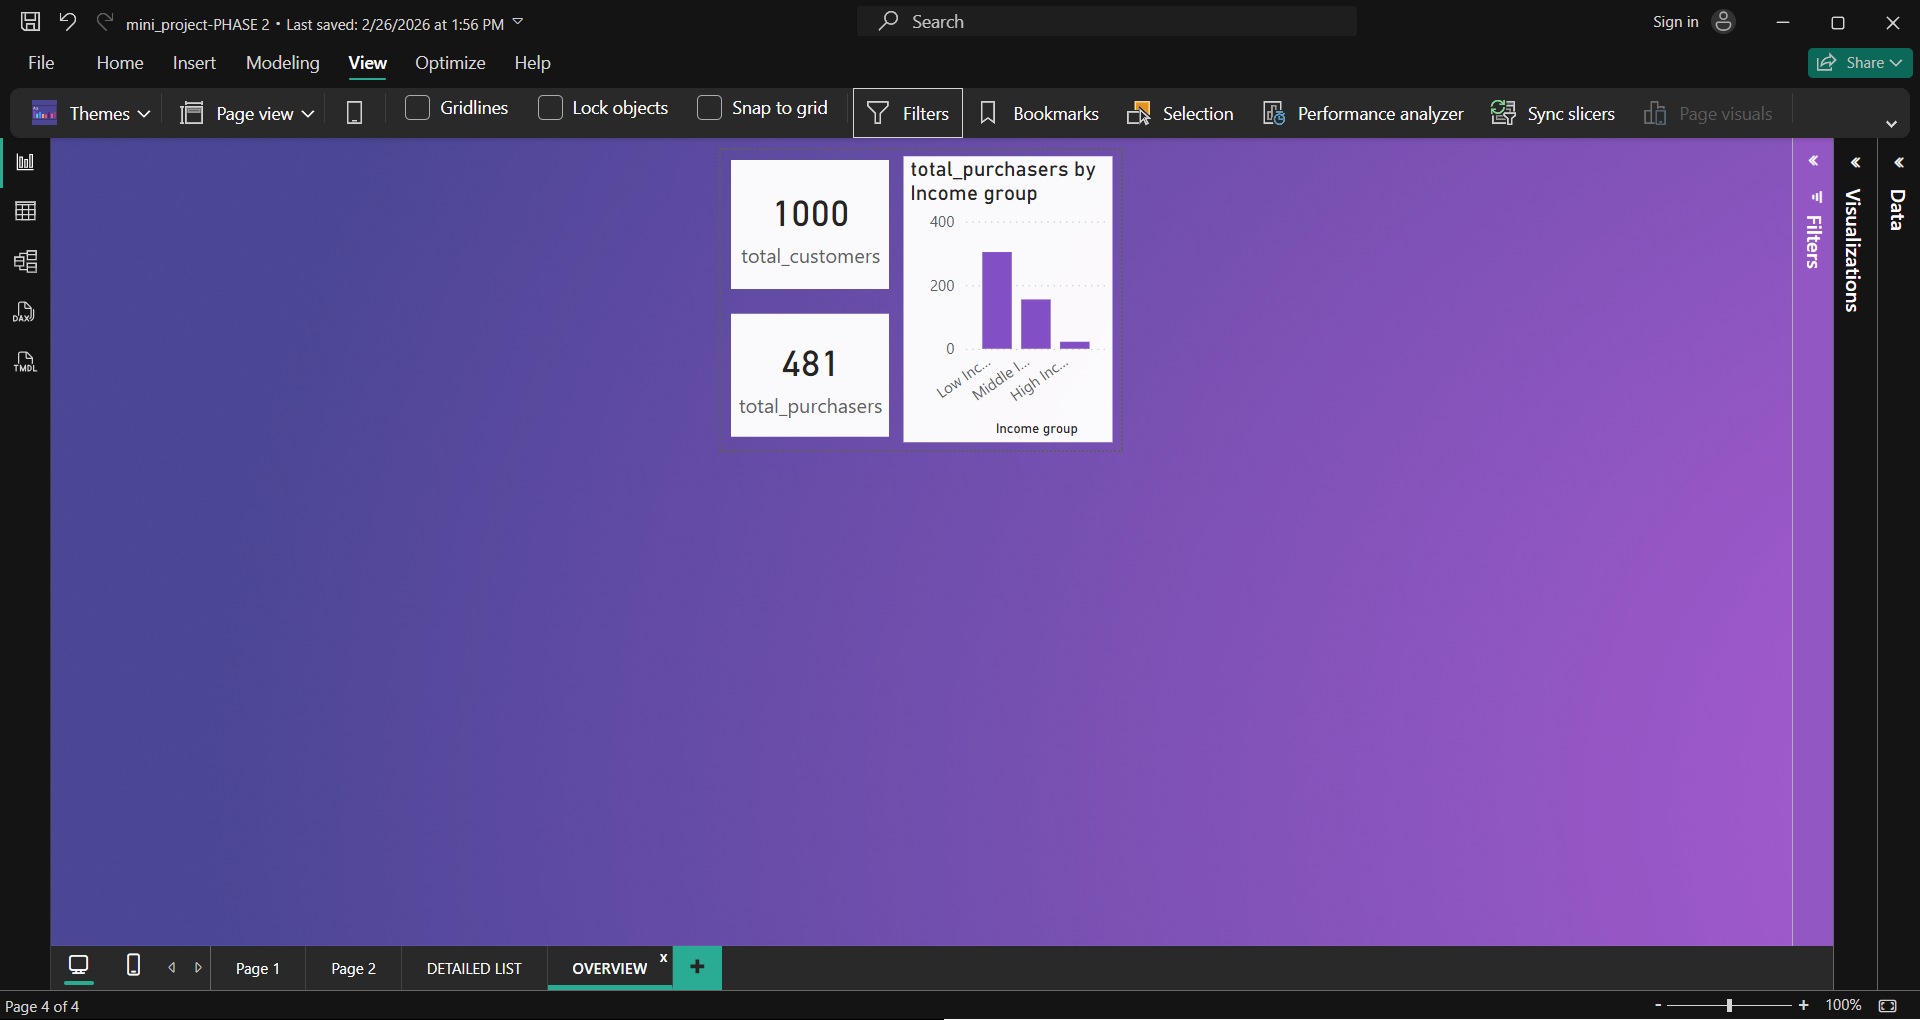

What the dashboard file says about the page in this screenshot:
{"tool":"powerbi","page":{"name":"OVERVIEW","canvas":[320,240],"ordinal":3},"visuals":[{"type":"card","fields":{"Values":["bike_sales.total_customers"]},"box":[8,8,126,103],"z":0},{"type":"card","fields":{"Values":["bike_sales.total_purchasers"]},"box":[8,131,126,98],"z":1000},{"type":"columnChart","fields":{"Category":["bike_sales.Income group"],"Y":["bike_sales.total_purchasers"]},"box":[146,5,167,229],"z":2000}]}

Visuals, with their boxes on the page's 320x240 design canvas (x1, y1, x2, y2). These are canvas units, not pixel positions in the 1920x1020 screenshot, which may show the page scaled, cropped or inside an application window:
card - bike_sales.total_customers: <region>8, 8, 134, 111</region>
card - bike_sales.total_purchasers: <region>8, 131, 134, 229</region>
columnChart - bike_sales.Income group x bike_sales.total_purchasers: <region>146, 5, 313, 234</region>
